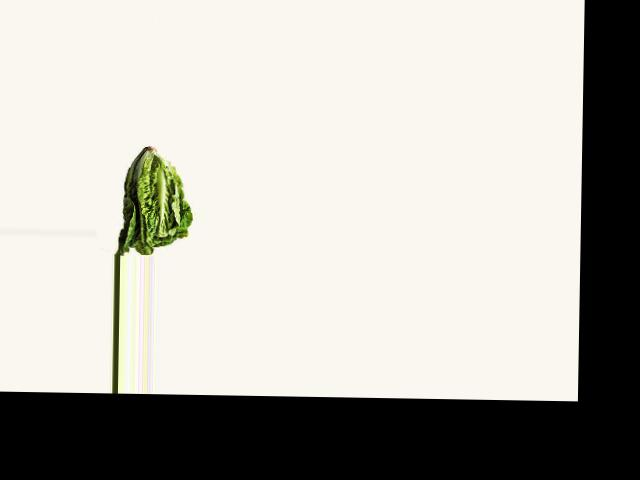lettuce: (118, 148, 197, 256)
